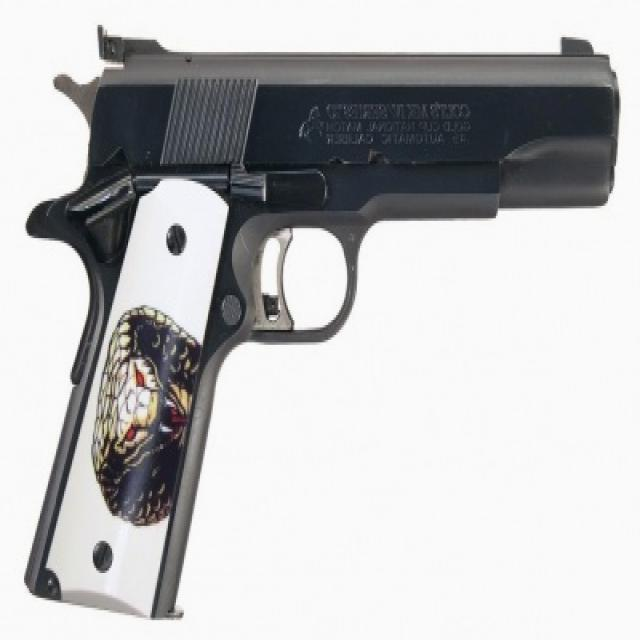pistol: (17, 17, 634, 623)
